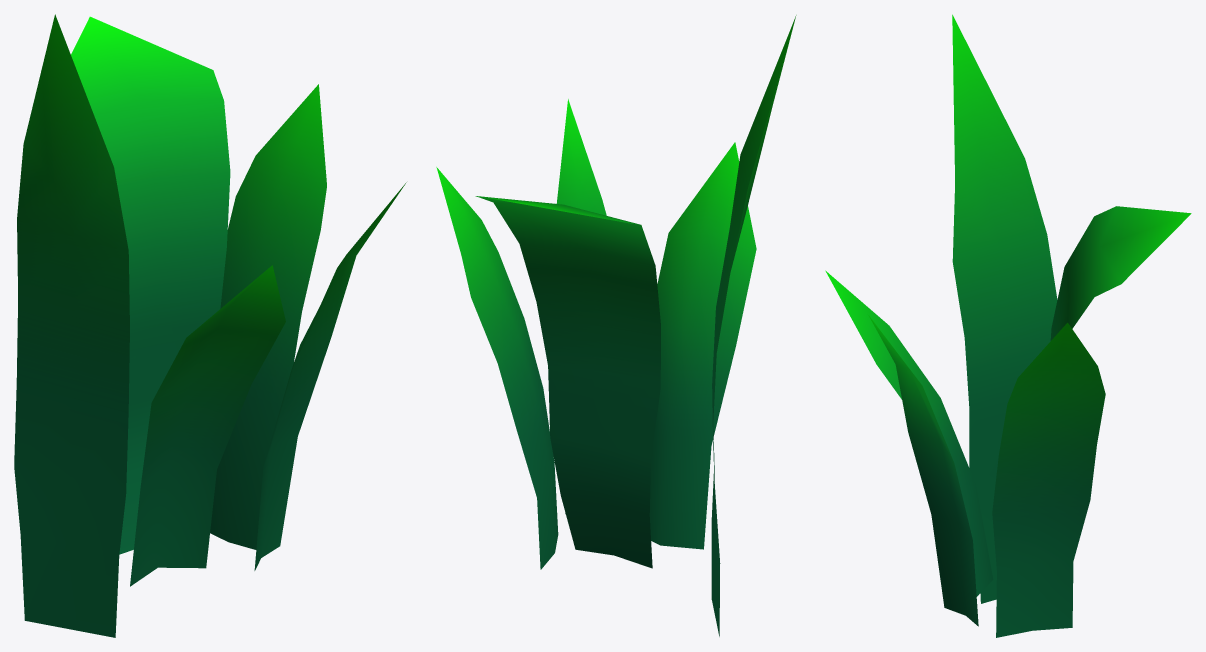
Rendered from Grass_Tall1.FBX.
The picture shows the model from 3 angles, left to right: view 1: azimuth 30°, elevation 25°; view 2: azimuth 150°, elevation 25°; view 3: azimuth 270°, elevation 25°; orthographic projection. The views are drawn at different scales.
Visible parts, largest first — view 1: Grass1; view 2: Grass1; view 3: Grass1.
Boxes of the visible parts, x1,y1,x2,y2 form: Grass1: (14, 14, 406, 637); Grass1: (436, 15, 796, 636); Grass1: (825, 14, 1191, 637).
Size of the model in its own units: 80.03 by 151 by 90.1.
